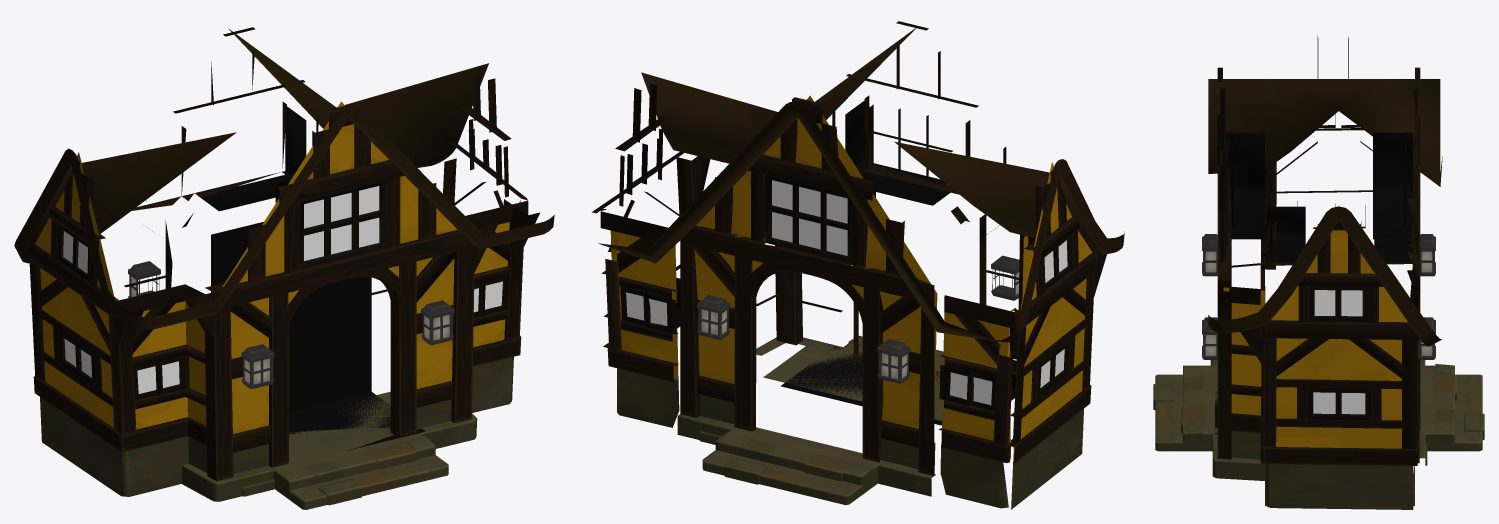
The model's file is chalet-wall-e.glb.
The picture shows the model from 3 angles, left to right: view 1: azimuth 30°, elevation 25°; view 2: azimuth 150°, elevation 25°; view 3: azimuth 270°, elevation 25°; orthographic projection. The views are drawn at different scales.
Visible parts, largest first — view 1: Brick00__mWallA, Wood00_low__mWallB, BrickBack__mHouseInner, WindowGlass00__mWindowGlass, LampDownL__mLamp, HouseInnerL__mHouseInner, SideWindow01__mSideWindow; view 2: Brick00__mWallA, Wood00_low__mWallB, WindowGlass00__mWindowGlass, LampDownL__mLamp, HouseInnerL__mHouseInner, BrickBack__mHouseInner, SideWindow01__mSideWindow; view 3: Brick00__mWallA, Wood00_low__mWallB, HouseInnerL__mHouseInner, LampDownL__mLamp, SideWindow01__mSideWindow, CL__mCurtain.
Boxes of the visible parts, bbox=[...] form: Brick00__mWallA: bbox=[14, 28, 554, 509]; Wood00_low__mWallB: bbox=[25, 27, 540, 480]; BrickBack__mHouseInner: bbox=[211, 222, 425, 450]; WindowGlass00__mWindowGlass: bbox=[137, 186, 502, 393]; LampDownL__mLamp: bbox=[128, 261, 454, 388]; HouseInnerL__mHouseInner: bbox=[201, 105, 306, 211]; SideWindow01__mSideWindow: bbox=[63, 231, 92, 377]; Brick00__mWallA: bbox=[598, 28, 1124, 509]; Wood00_low__mWallB: bbox=[592, 21, 1106, 475]; WindowGlass00__mWindowGlass: bbox=[626, 180, 992, 405]; LampDownL__mLamp: bbox=[697, 255, 1019, 383]; HouseInnerL__mHouseInner: bbox=[676, 100, 1017, 400]; BrickBack__mHouseInner: bbox=[780, 346, 941, 425]; SideWindow01__mSideWindow: bbox=[1040, 240, 1067, 387]; Brick00__mWallA: bbox=[1153, 79, 1484, 509]; Wood00_low__mWallB: bbox=[1217, 35, 1420, 465]; HouseInnerL__mHouseInner: bbox=[1225, 132, 1413, 262]; LampDownL__mLamp: bbox=[1202, 234, 1435, 359]; SideWindow01__mSideWindow: bbox=[1313, 290, 1365, 414]; CL__mCurtain: bbox=[1231, 130, 1410, 257].
Bounding box in the file's own units: 48.63 × 39.51 × 33.75.
7 materials, 3 textured.
